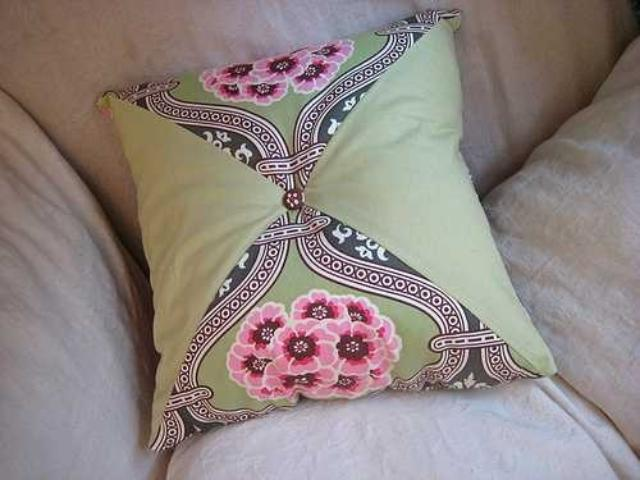pillow: (95, 8, 559, 452)
